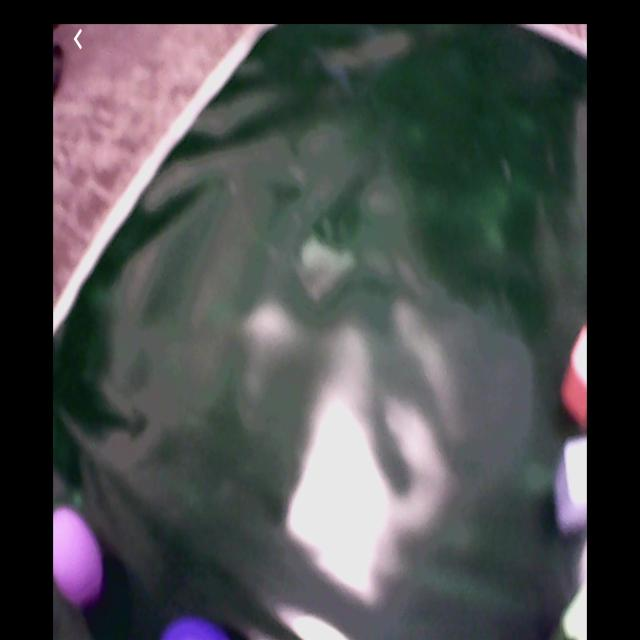ball: (54, 506, 102, 603), (161, 617, 237, 640)
